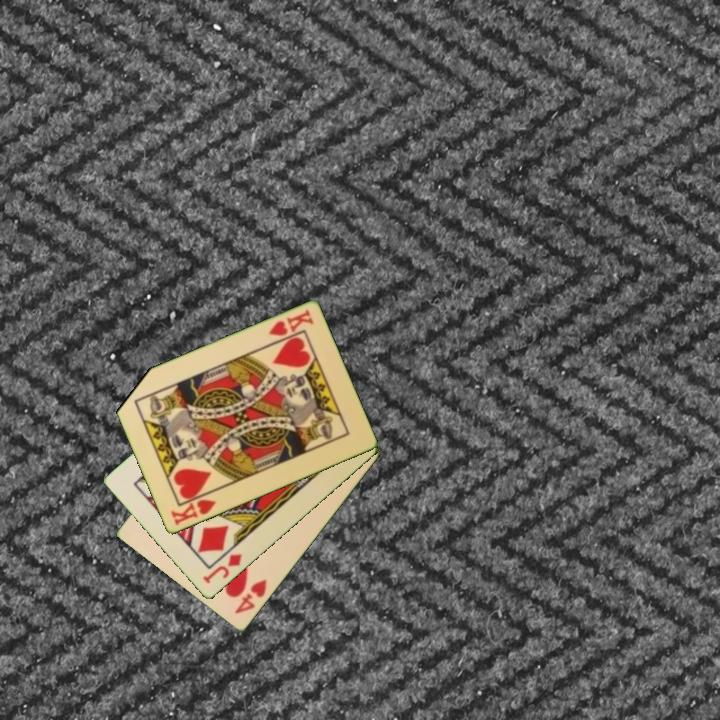4h: (231, 576, 270, 617)
Jd: (199, 550, 245, 587)
Kh: (167, 488, 219, 529), (265, 306, 317, 339)
